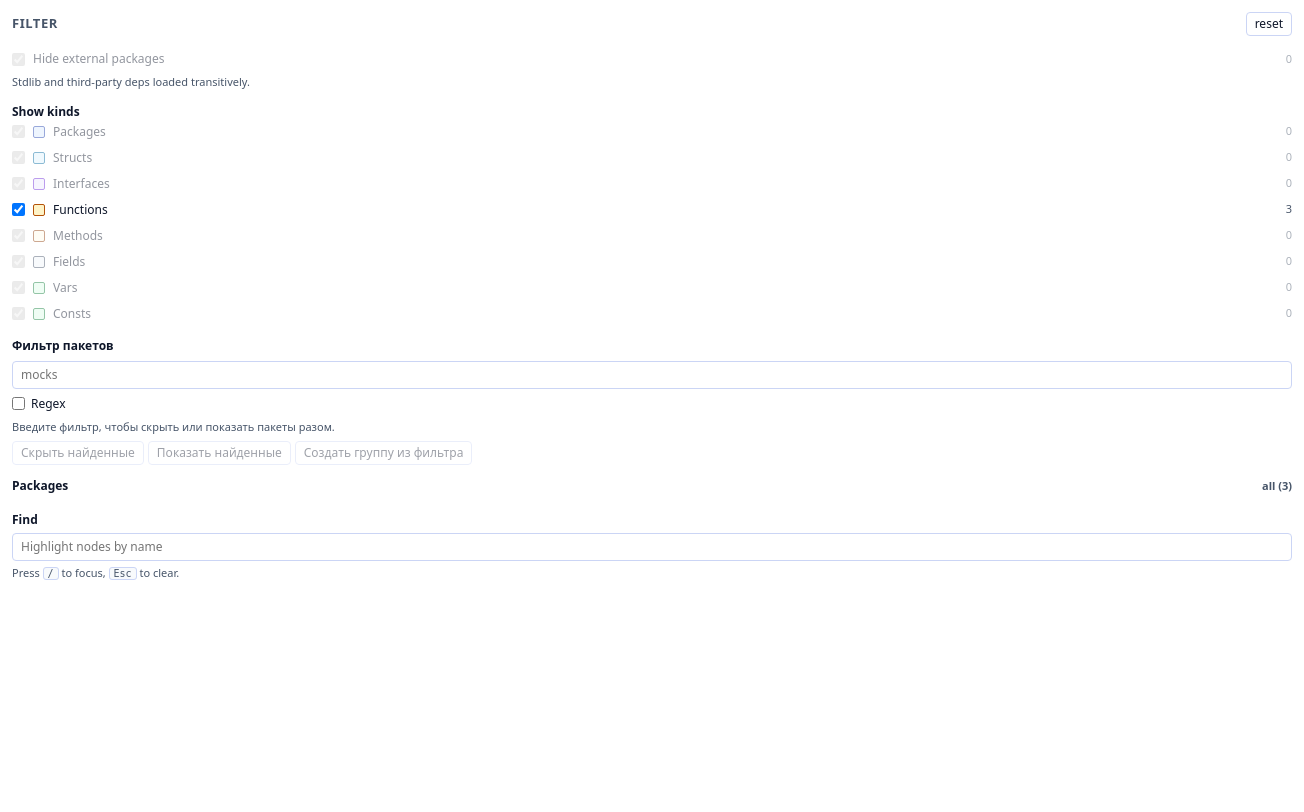
Test: <FiltersPanel /> bulk filter › regex mode honours the /<pattern>/ flag and surfaces parse errors
Click the checkbox with test id "filters-package-bulk-regex" at (18, 404), box top-left (12, 397), bottom-right (25, 410)
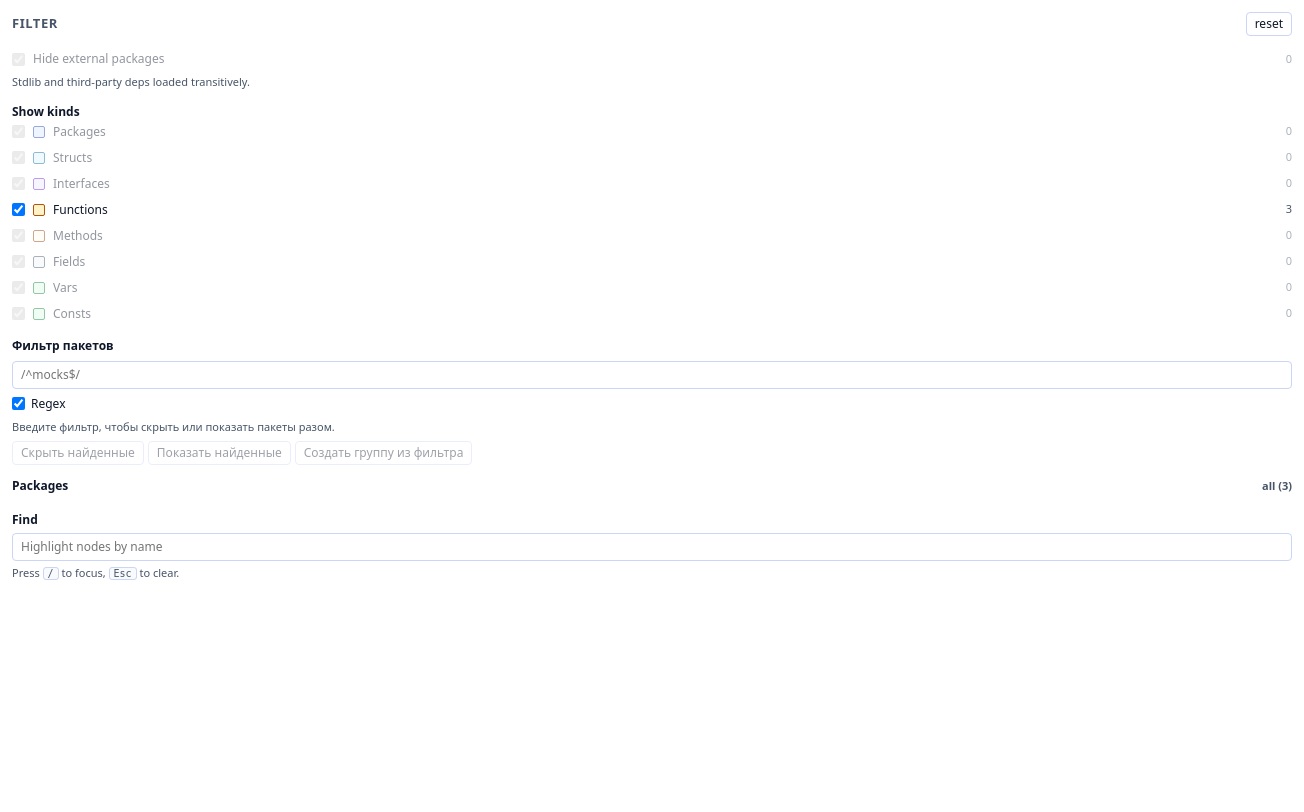
Type "^a/" into the search field with test id "filters-package-bulk-input" at (652, 374), box top-left (12, 360), bottom-right (1292, 388)
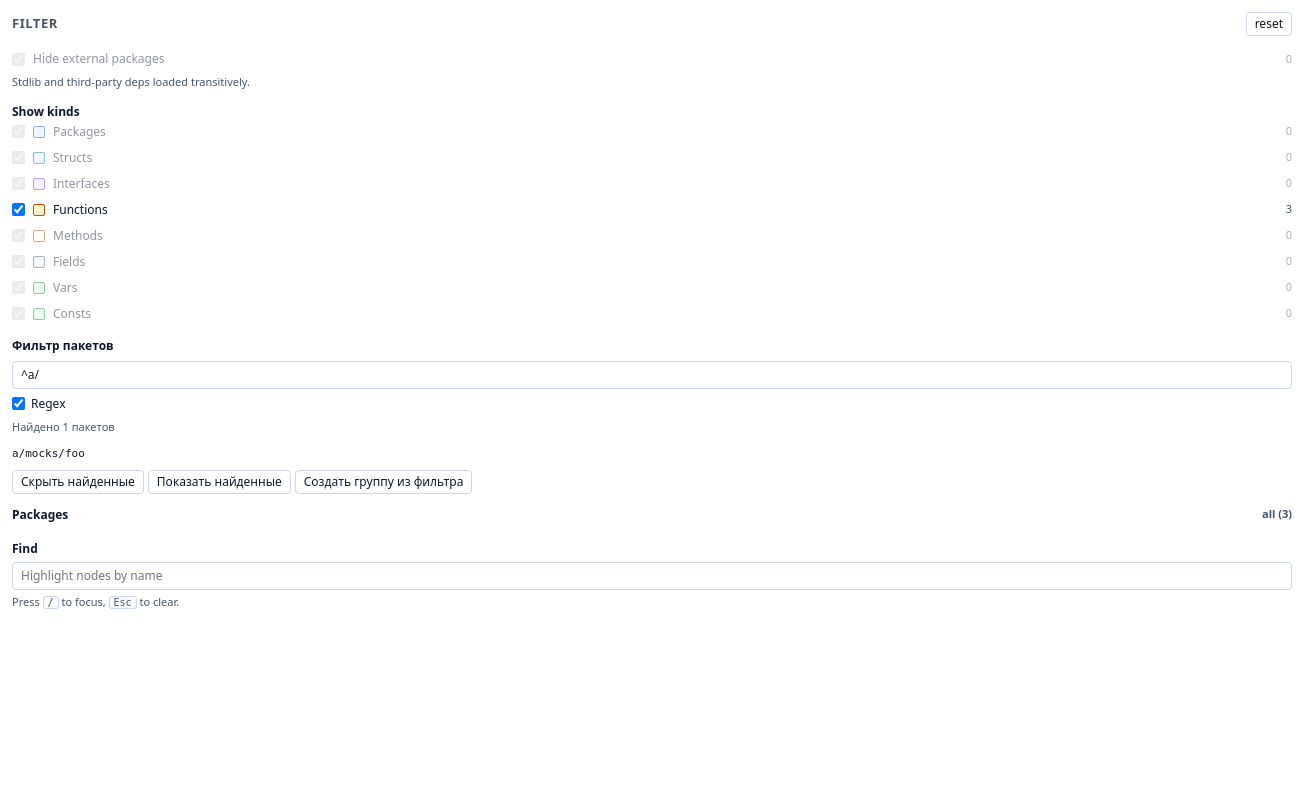
Expected: the list item with test id "filters-package-bulk-match-a/mocks/foo" is shown, top-left (12, 447), bottom-right (85, 460)
// Invalid regex → empty match list + red border via aria-invalid.
Replace the text in the search field with test id "filters-package-bulk-input" with "[unclosed(" at (652, 374), box top-left (12, 360), bottom-right (1292, 388)
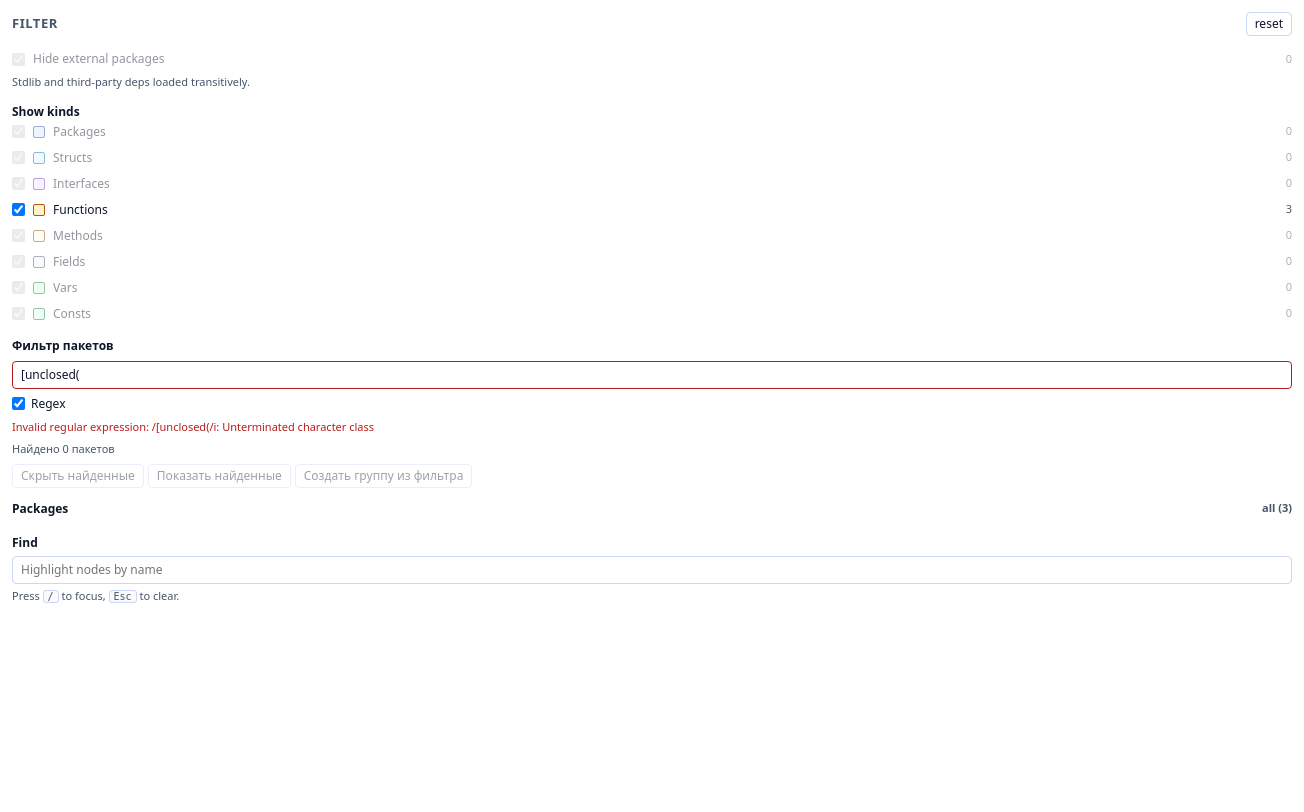
Expected: the list item with test id "filters-package-bulk-match-a/mocks/foo" is gone
